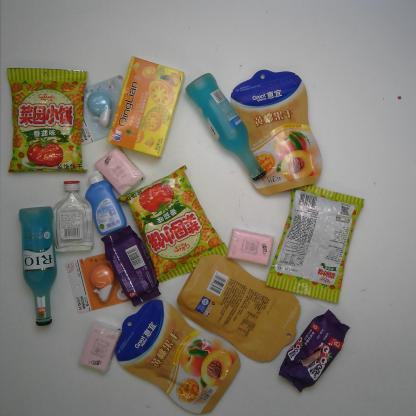Alcohol: (186, 72, 266, 182), (17, 205, 58, 327), (51, 179, 93, 254)
Dessert: (106, 56, 189, 161), (278, 308, 349, 395), (100, 225, 162, 308)
Dried Fruit: (113, 298, 243, 416), (174, 253, 301, 364), (227, 66, 323, 197)
Personal Hygiene: (82, 167, 129, 238)
Puffed Food: (115, 164, 234, 285), (263, 176, 365, 304), (5, 63, 90, 174)
Stationery: (65, 248, 146, 315), (69, 72, 139, 148)
Tissue: (93, 146, 146, 198), (76, 320, 124, 374), (226, 227, 276, 265)
